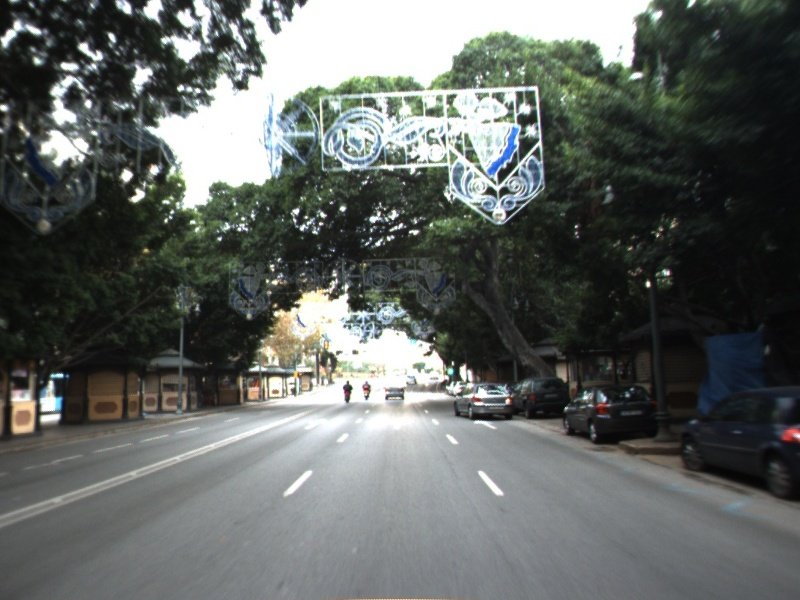STRAIGHT: (471, 417, 499, 431)
